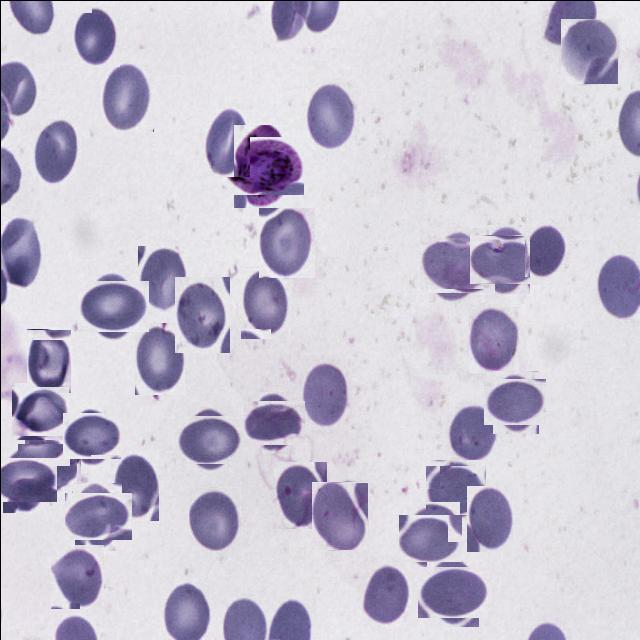red blood cell: (174, 276, 229, 352), (424, 232, 488, 297), (258, 207, 314, 277), (311, 481, 368, 549), (560, 17, 618, 83), (100, 60, 153, 132), (81, 274, 142, 336), (304, 78, 356, 150), (422, 560, 482, 622), (272, 461, 326, 528), (301, 357, 351, 429), (134, 322, 184, 394), (474, 228, 534, 288), (240, 266, 289, 338), (50, 543, 104, 608), (110, 449, 158, 520), (180, 410, 238, 468), (358, 562, 410, 626), (188, 486, 240, 550), (203, 104, 249, 176), (468, 306, 518, 372), (32, 116, 80, 184), (68, 488, 126, 544), (137, 245, 186, 311), (446, 400, 497, 463), (402, 510, 458, 566), (466, 485, 513, 551), (20, 439, 76, 494), (72, 4, 120, 66), (488, 374, 542, 429), (12, 383, 66, 438), (428, 462, 482, 516), (26, 328, 71, 392), (0, 451, 52, 506), (65, 409, 117, 462), (248, 396, 300, 448), (524, 223, 566, 276)
trophozoite: (226, 130, 298, 200)
